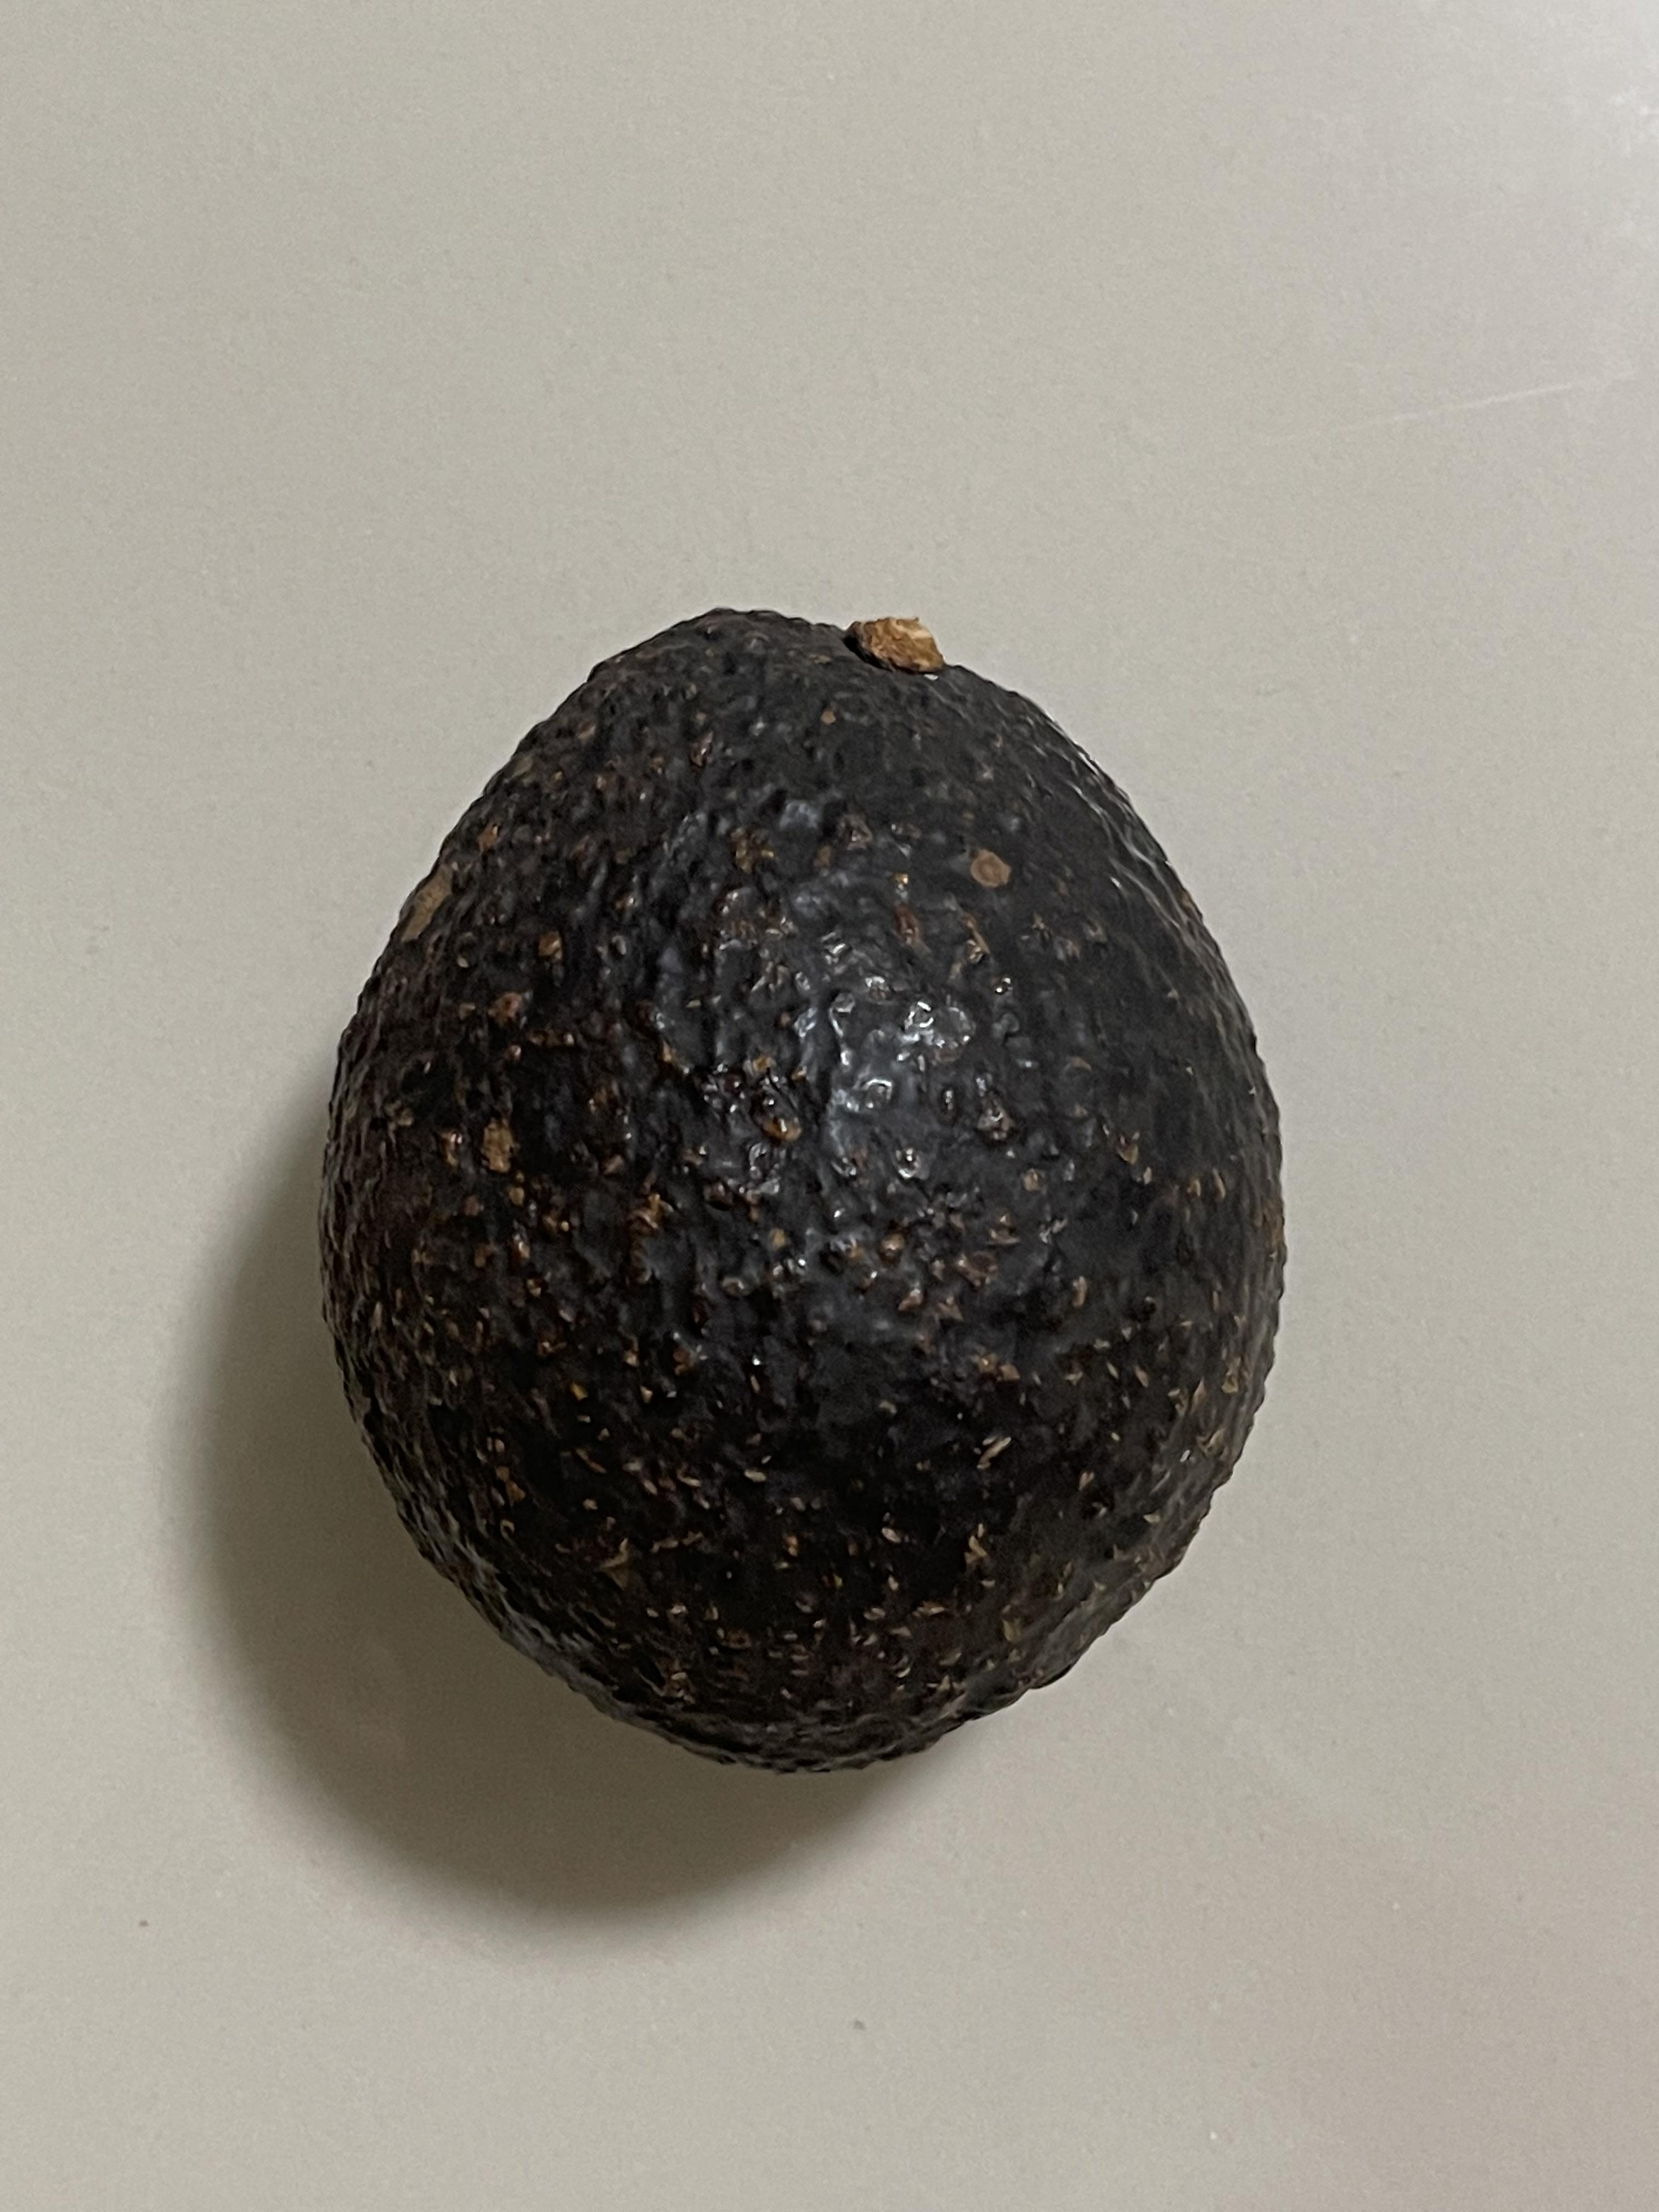Level2: (301, 592, 1304, 1782)
